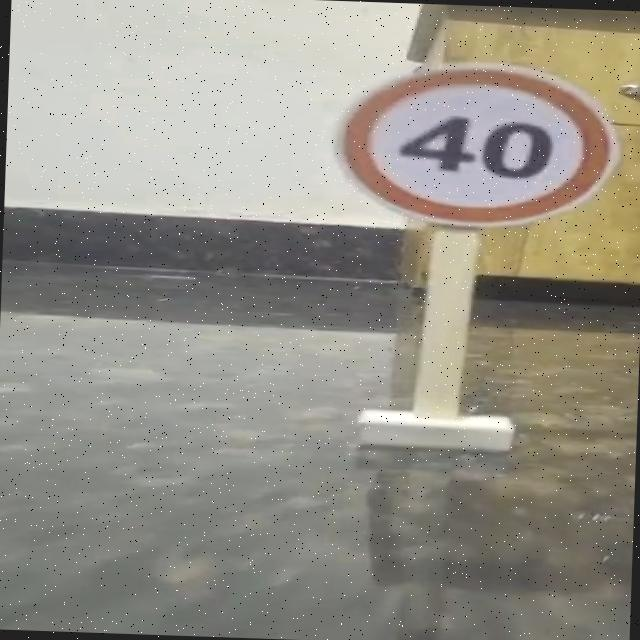Speed40: (316, 52, 629, 238)
